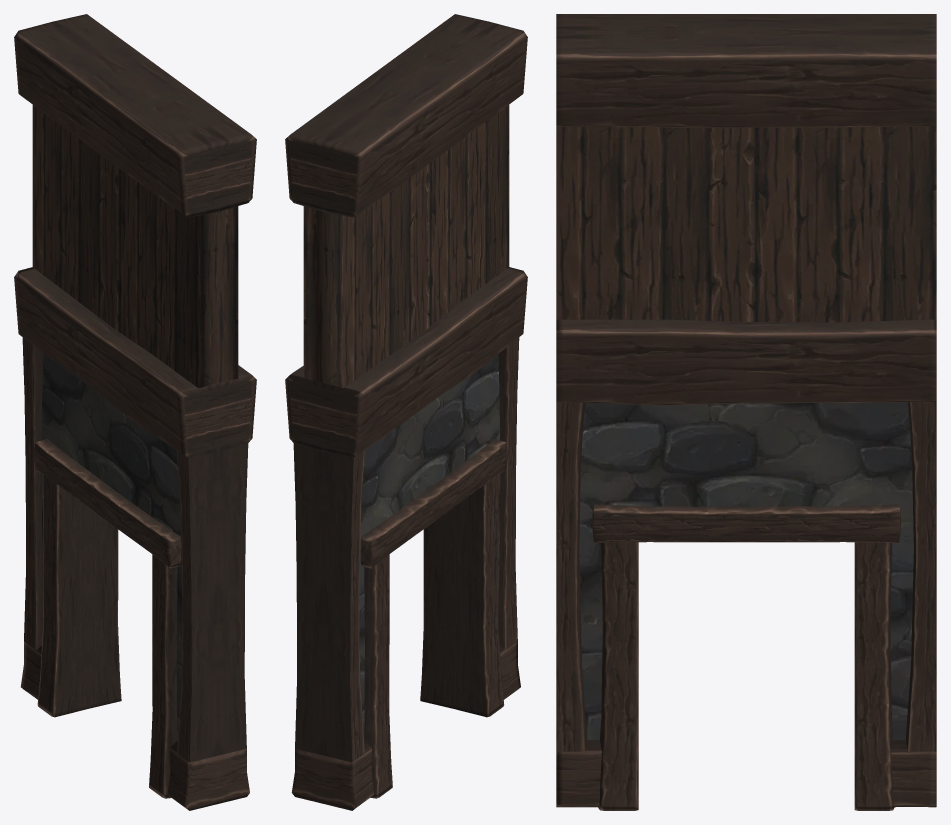
The picture shows the model from 3 angles, left to right: view 1: azimuth 30°, elevation 25°; view 2: azimuth 150°, elevation 25°; view 3: azimuth 270°, elevation 25°; orthographic projection. The views are drawn at different scales.
Bounding box in the file's own units: 1.35 × 11.01 × 5.
Materials: 6 (6 with a texture image).
